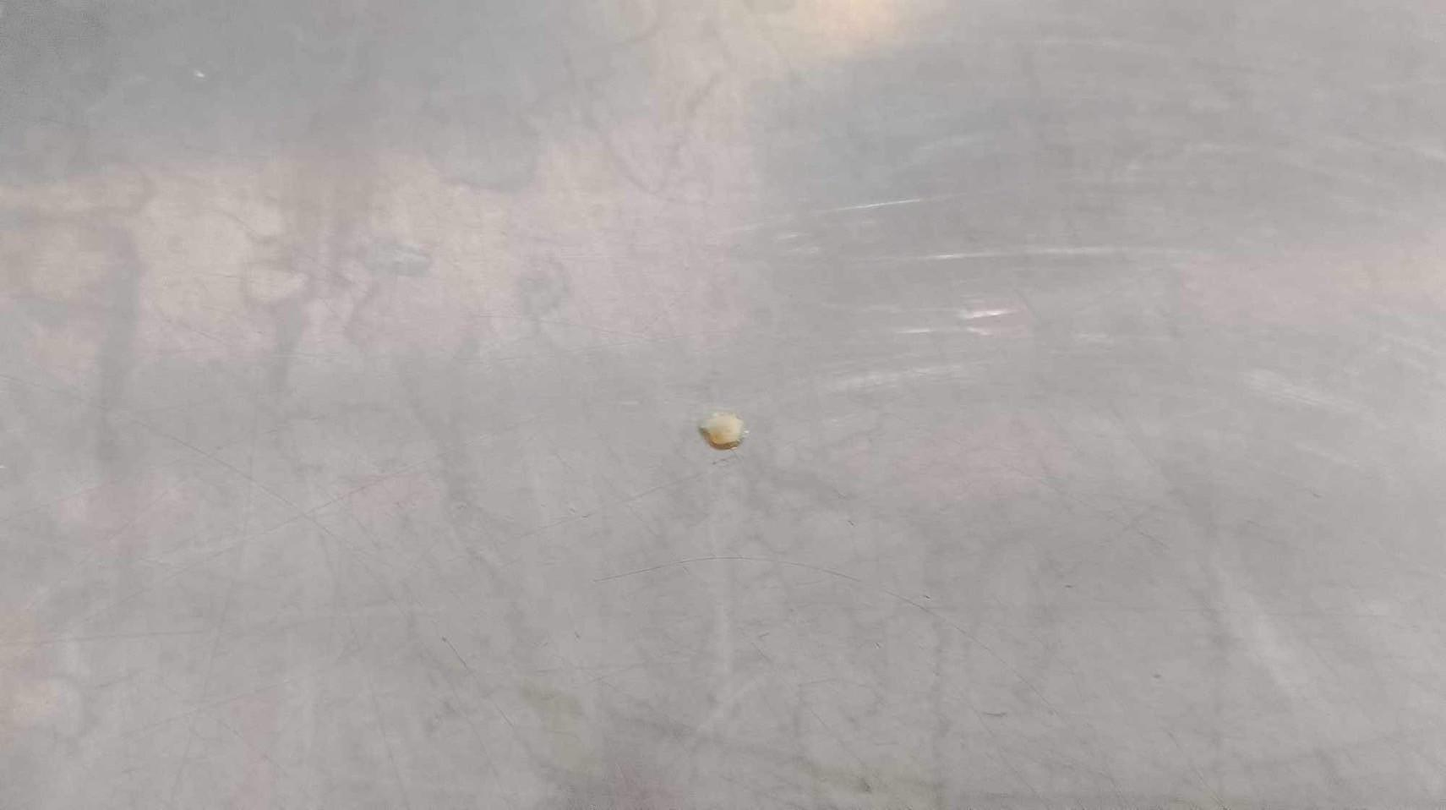General: (5, 4, 1438, 806)
Infectious: (697, 410, 747, 450)
